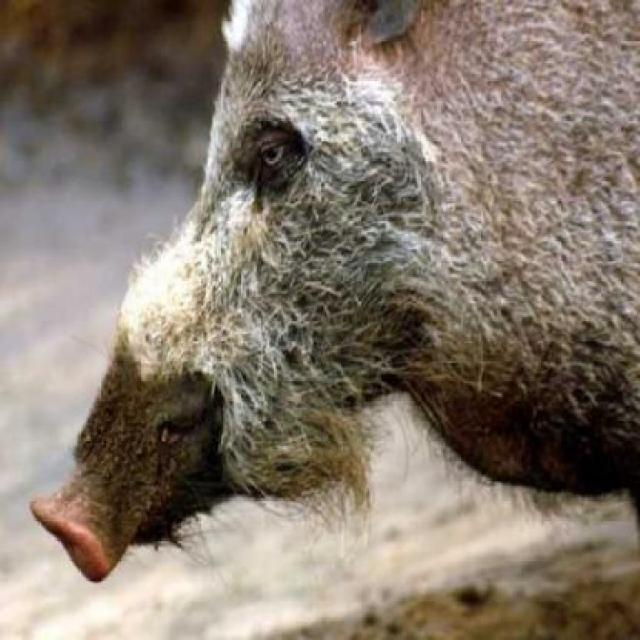pig: (26, 0, 639, 622)
